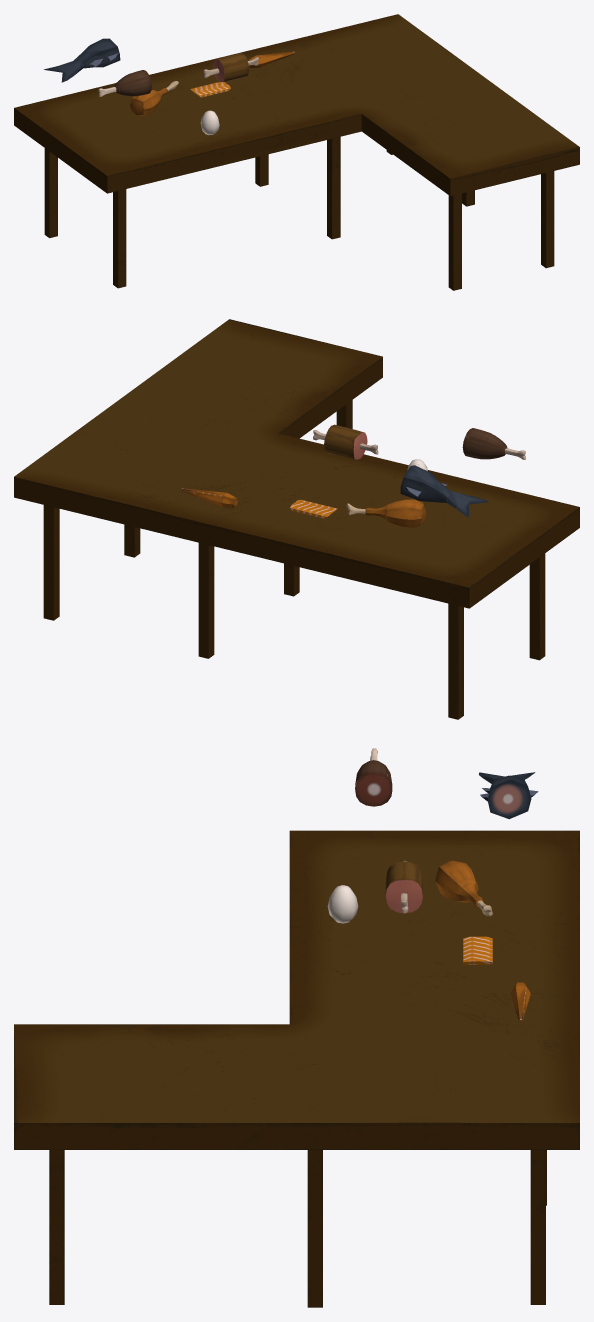
File: MesaFeira.fbx
The picture shows the model from 3 angles, top to bottom: view 1: azimuth 30°, elevation 25°; view 2: azimuth 150°, elevation 25°; view 3: azimuth 270°, elevation 25°; orthographic projection. The views are drawn at different scales.
Visible parts, largest first — view 1: mesa_low, peixe_low, pernil_low, coxao_low, frango_low, salmao_low, ovo_low, cenoura_low; view 2: mesa_low, peixe_low, pernil_low, frango_low, coxao_low, cenoura_low, salmao_low; view 3: mesa_low, peixe_low, pernil_low, frango_low, coxao_low, ovo_low, salmao_low.
Part boxes in pixels (left/top/right/bottom): mesa_low: left=14, top=14, right=579, bottom=290; peixe_low: left=44, top=38, right=120, bottom=82; pernil_low: left=203, top=52, right=258, bottom=82; coxao_low: left=98, top=70, right=151, bottom=96; frango_low: left=130, top=81, right=178, bottom=115; salmao_low: left=190, top=82, right=230, bottom=97; ovo_low: left=200, top=110, right=219, bottom=134; cenoura_low: left=247, top=51, right=294, bottom=67; mesa_low: left=14, top=319, right=579, bottom=719; peixe_low: left=400, top=465, right=488, bottom=517; pernil_low: left=313, top=424, right=378, bottom=459; frango_low: left=346, top=499, right=426, bottom=527; coxao_low: left=462, top=428, right=525, bottom=459; cenoura_low: left=181, top=488, right=238, bottom=507; salmao_low: left=290, top=499, right=337, bottom=518; mesa_low: left=14, top=830, right=579, bottom=1307; peixe_low: left=479, top=772, right=538, bottom=819; pernil_low: left=385, top=860, right=422, bottom=913; frango_low: left=435, top=860, right=492, bottom=916; coxao_low: left=355, top=748, right=392, bottom=806; ovo_low: left=327, top=885, right=358, bottom=923; salmao_low: left=463, top=936, right=492, bottom=964.
Size of the model in its own units: 1079 by 519 by 884.
